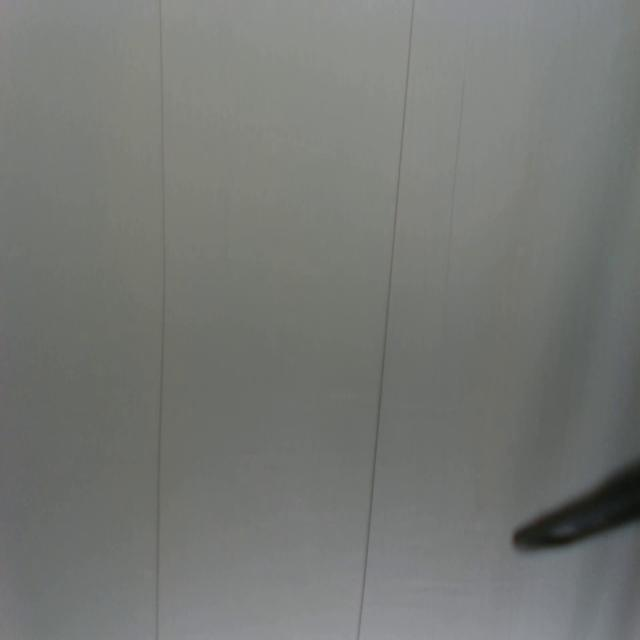crease: (357, 0, 415, 638), (153, 1, 170, 640), (444, 73, 468, 299)
